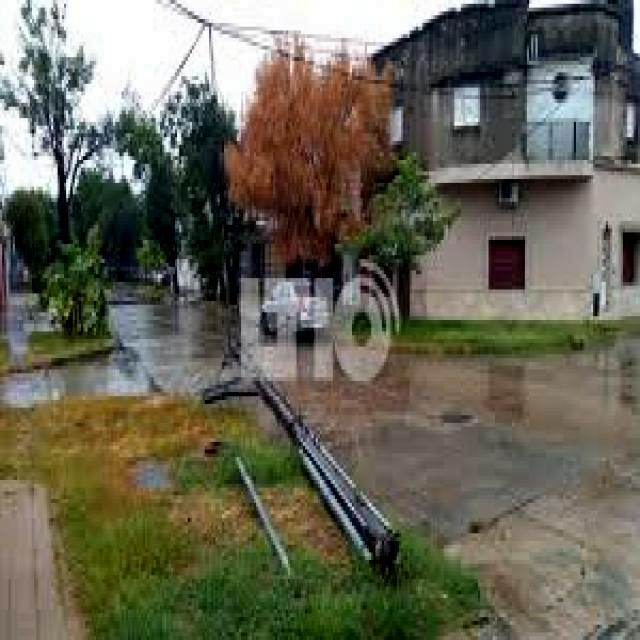Broken Pole: (203, 330, 401, 568)
